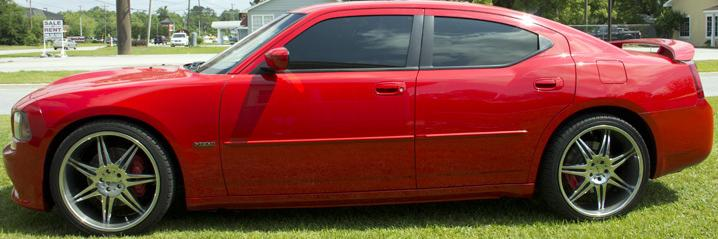headlight: (11, 102, 51, 147)
side_glass: (263, 18, 573, 86)
